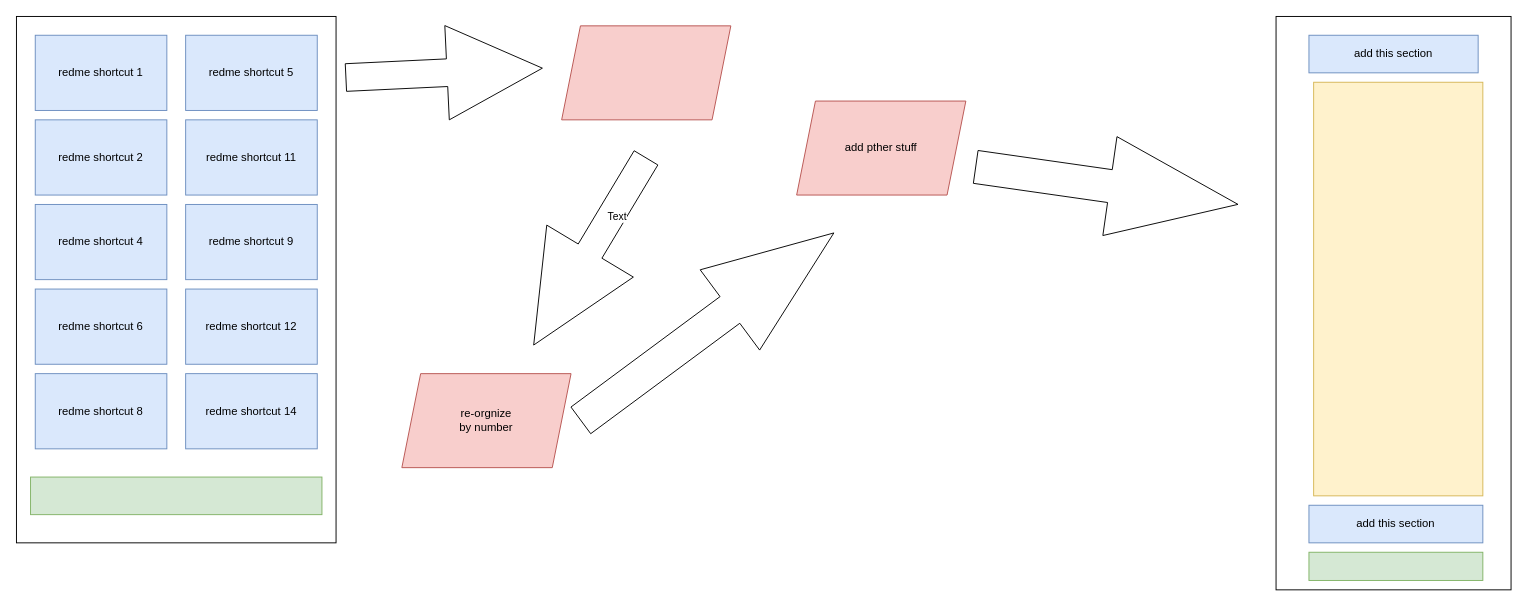
The diagram is 1528 pixels wide and 606 high, and some of its shapes have lost their labels. Here are the shapes that lost their labels. From the top down, the box of each, then its label:
(561, 25, 731, 120): ignore some parts
(1313, 81, 1483, 496): output
(30, 476, 322, 515): small software builder
(1308, 551, 1483, 580): last time
